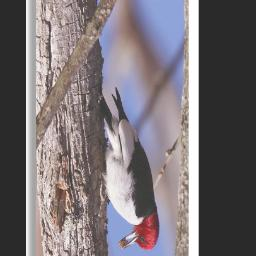Woodpecker: (97, 89, 160, 251)
